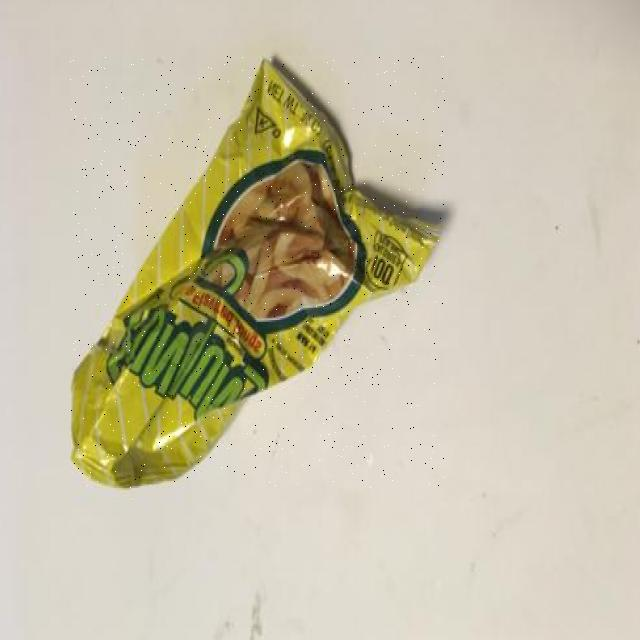wrapper: (71, 56, 445, 488)
